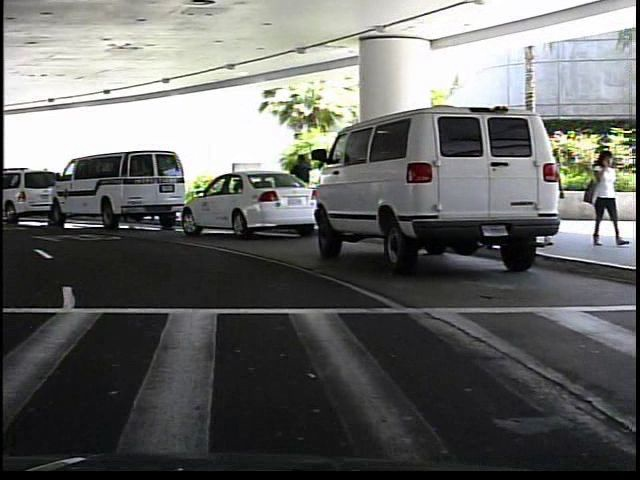person: (582, 147, 625, 247), (286, 149, 317, 218)
